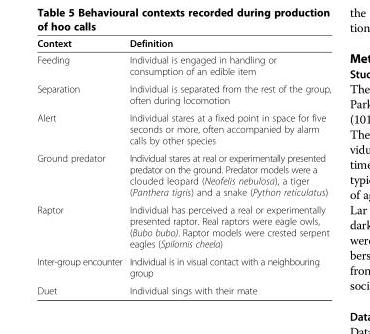table: (36, 37, 330, 295)
table column: (125, 37, 330, 295), (36, 37, 125, 295)
table column header: (36, 37, 330, 51)
table row: (36, 148, 330, 200), (36, 200, 330, 252), (36, 108, 330, 148), (36, 79, 330, 108), (36, 252, 330, 281), (36, 51, 330, 79), (36, 37, 330, 51), (36, 281, 330, 295)
